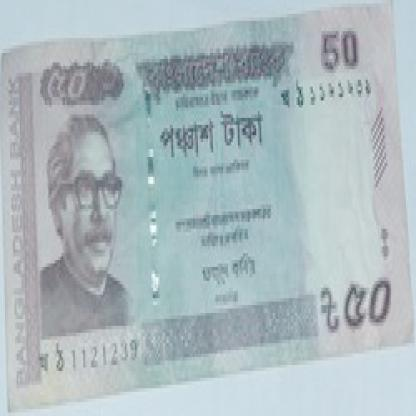Fifty taka: (321, 267, 398, 354), (38, 62, 96, 125)
